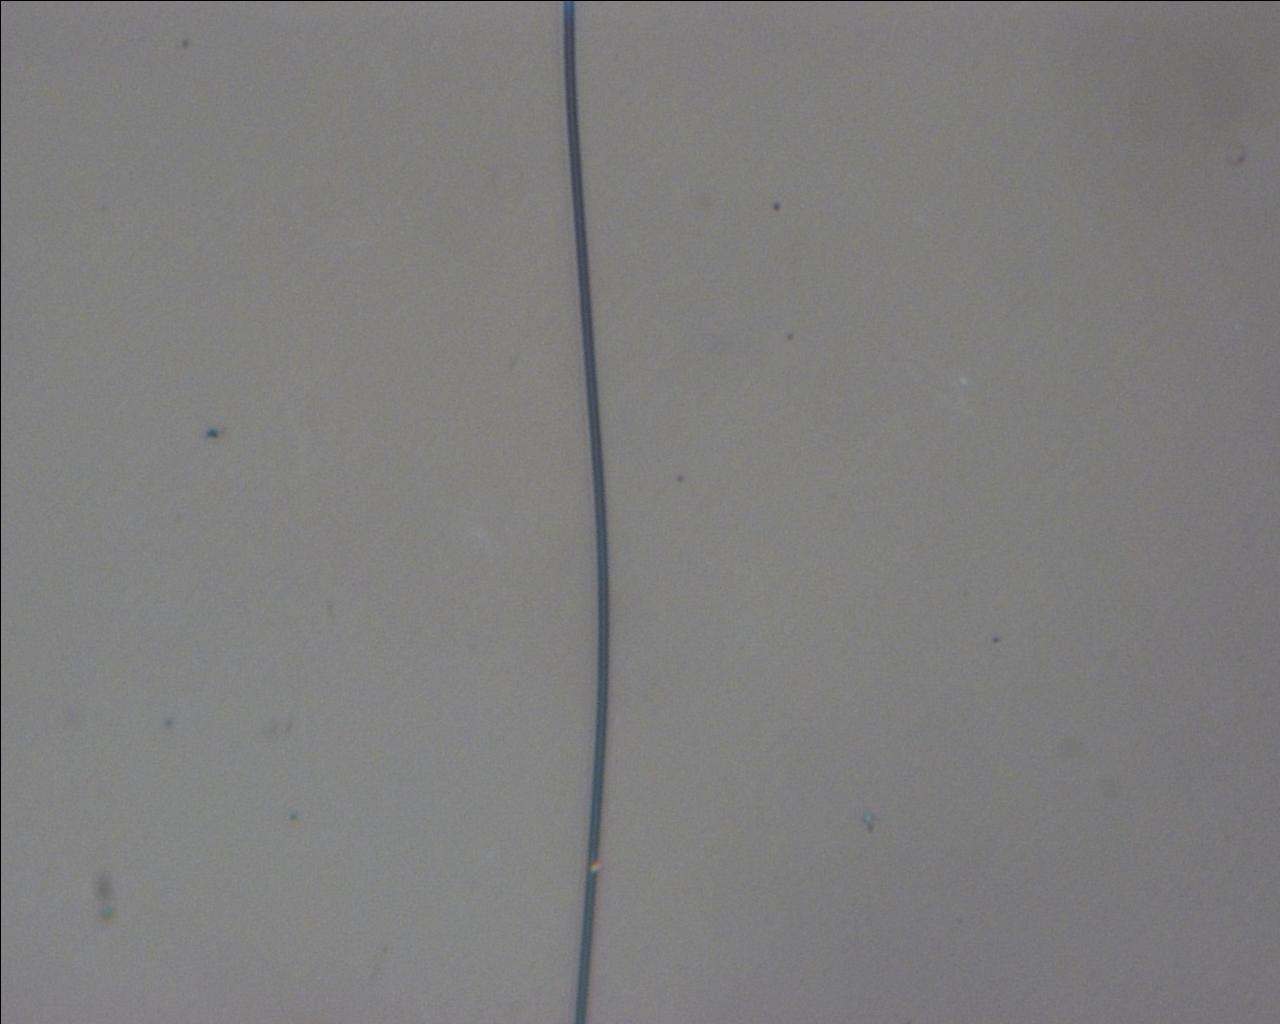fiber: (559, 0, 609, 1024)
